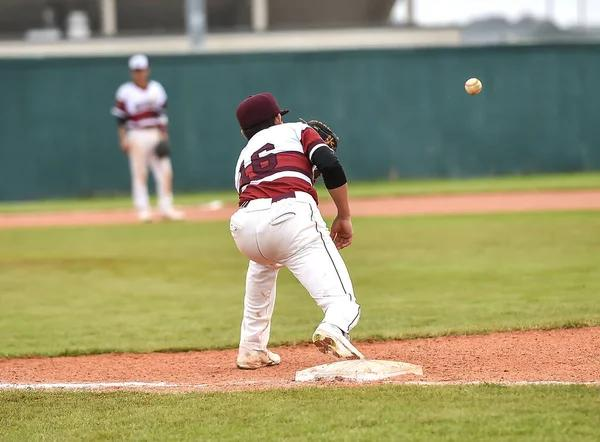baseball: (465, 79, 482, 96)
